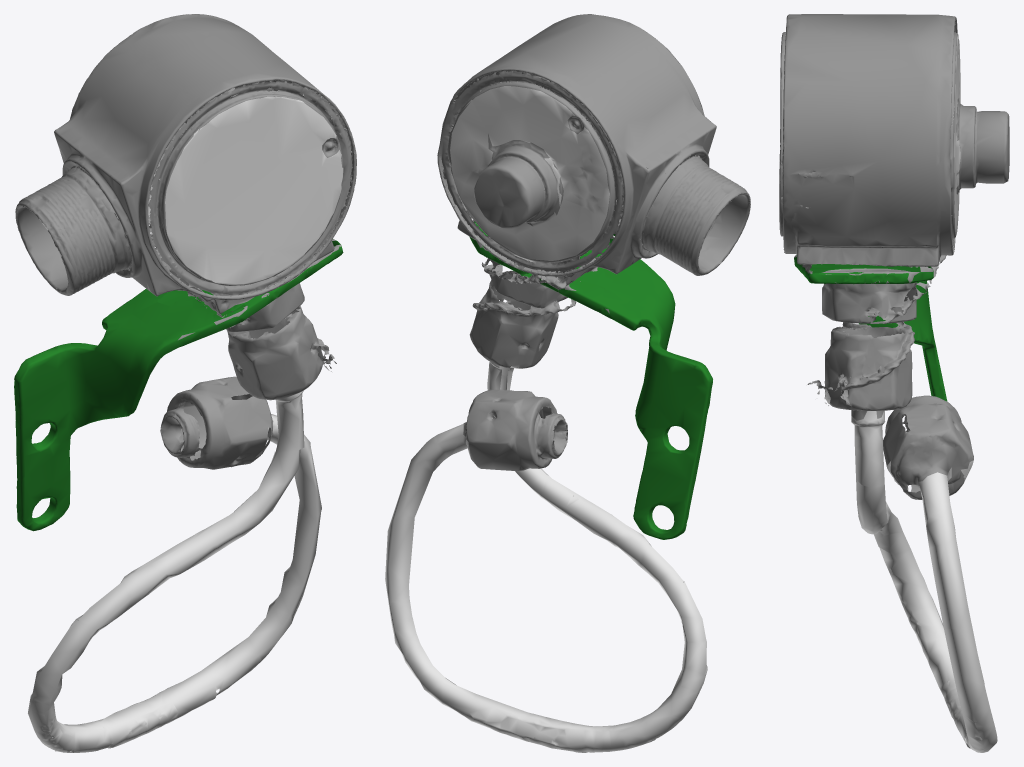
3 views of the same model, side by side, from view 1: azimuth 30°, elevation 25°; view 2: azimuth 150°, elevation 25°; view 3: azimuth 270°, elevation 25° (orthographic). The views are drawn at different scales.
Parts seen in each view (by area): view 1: obj_3; view 2: obj_3; view 3: obj_3.
Boxes of the visible parts, x1,y1,x2,y2 form: obj_3: [14, 14, 356, 752]; obj_3: [385, 14, 750, 752]; obj_3: [779, 14, 1009, 752].
Bounding box in the file's own units: 0.0836 × 0.1714 × 0.0502.
